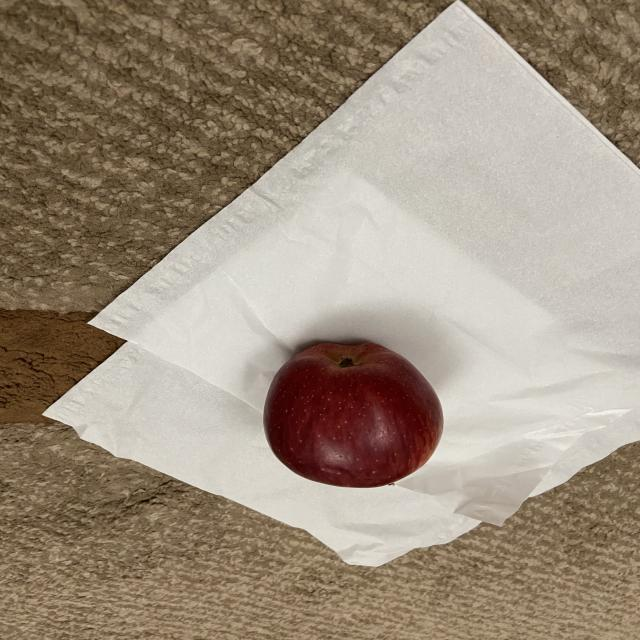apple: (261, 337, 447, 492)
